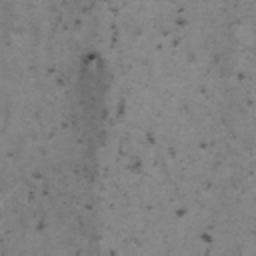Oxide scale of temperature system: (29, 4, 209, 232), (155, 6, 255, 106), (177, 182, 214, 243), (109, 248, 119, 256)
